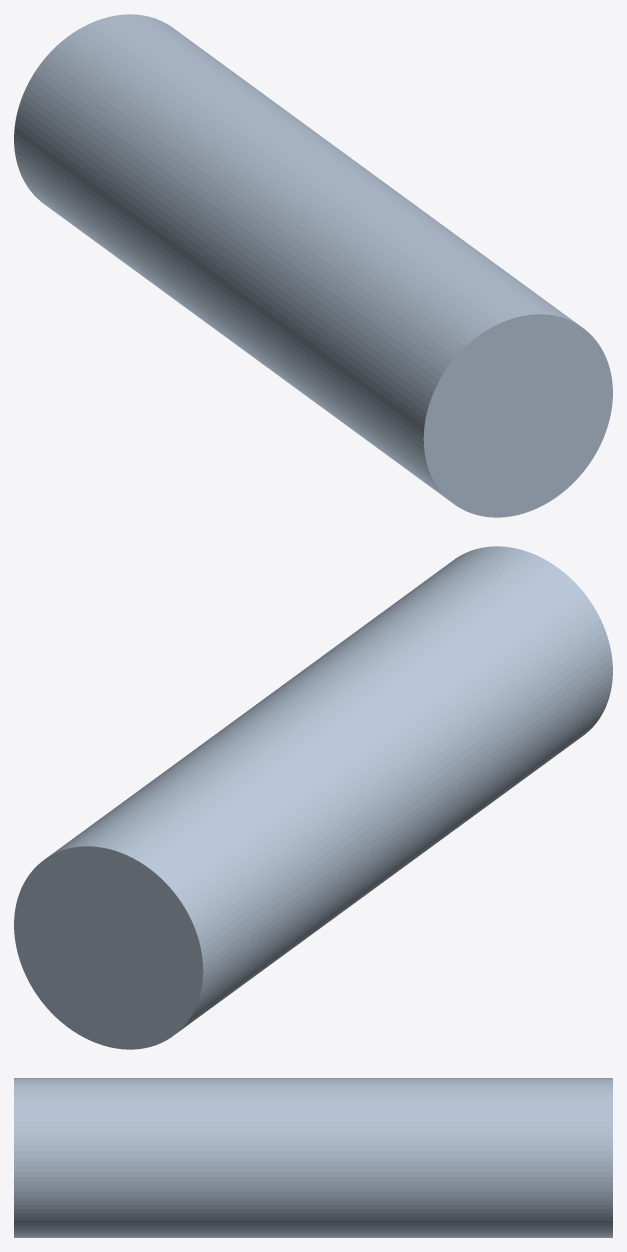
File: left_axle.dae
3 renders of one model, top to bottom at view 1: azimuth 30°, elevation 25°; view 2: azimuth 150°, elevation 25°; view 3: azimuth 270°, elevation 25°, orthographic. The views are drawn at different scales.
Parts seen in each view (by area): view 1: left_axle; view 2: left_axle; view 3: left_axle.
Boxes of the visible parts, x1,y1,x2,y2 form: left_axle: [14, 14, 612, 517]; left_axle: [14, 546, 612, 1049]; left_axle: [14, 1078, 612, 1237].
Size of the model in its own units: 0.004 by 0.015 by 0.004.
